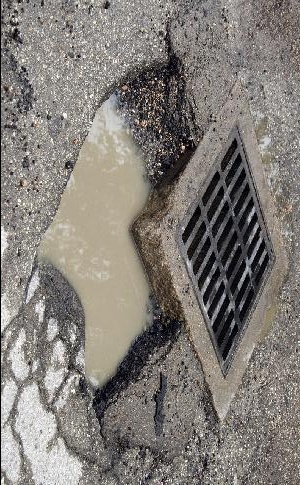pothole: (34, 51, 201, 417)
